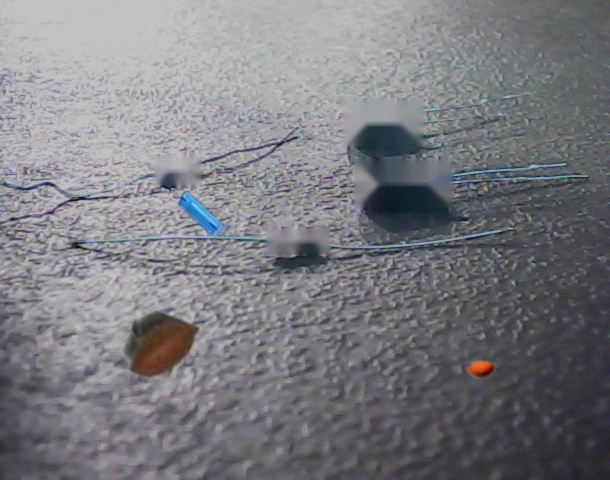capacitor: (123, 310, 199, 379), (178, 191, 228, 236), (466, 361, 495, 379)
